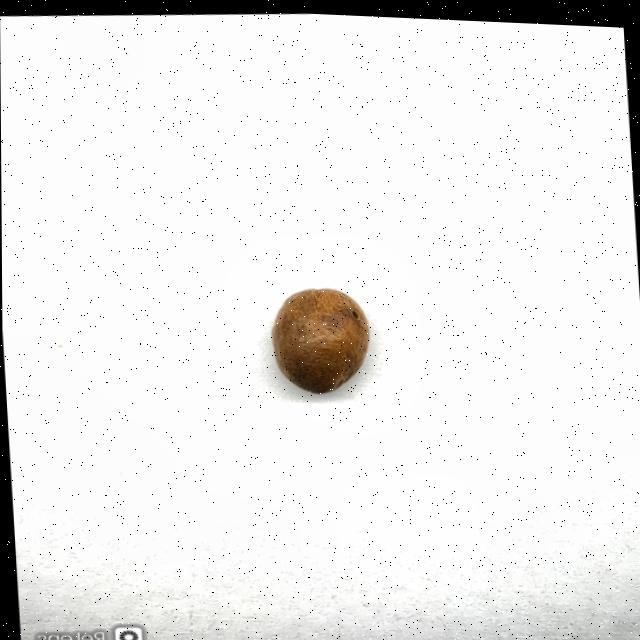Insect damage: (268, 283, 374, 392)
